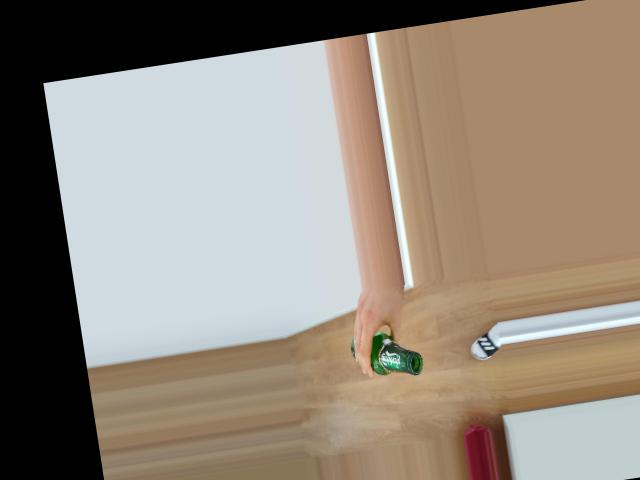beer: (350, 326, 425, 384)
